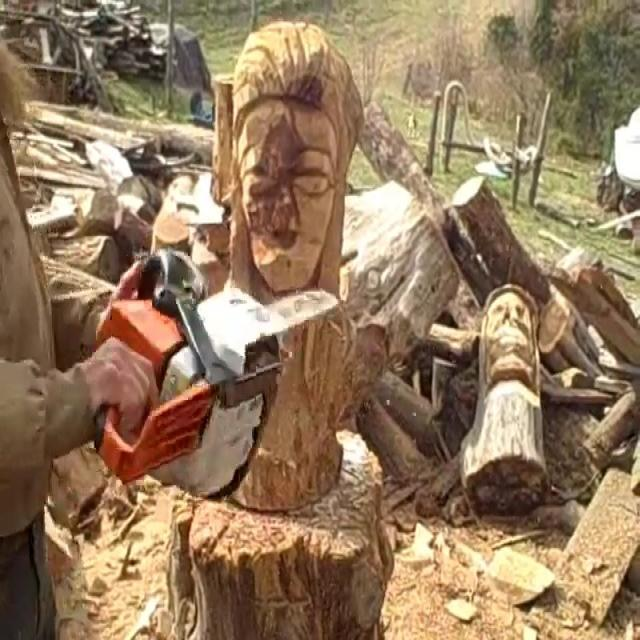Chainsaw: (69, 232, 348, 512)
